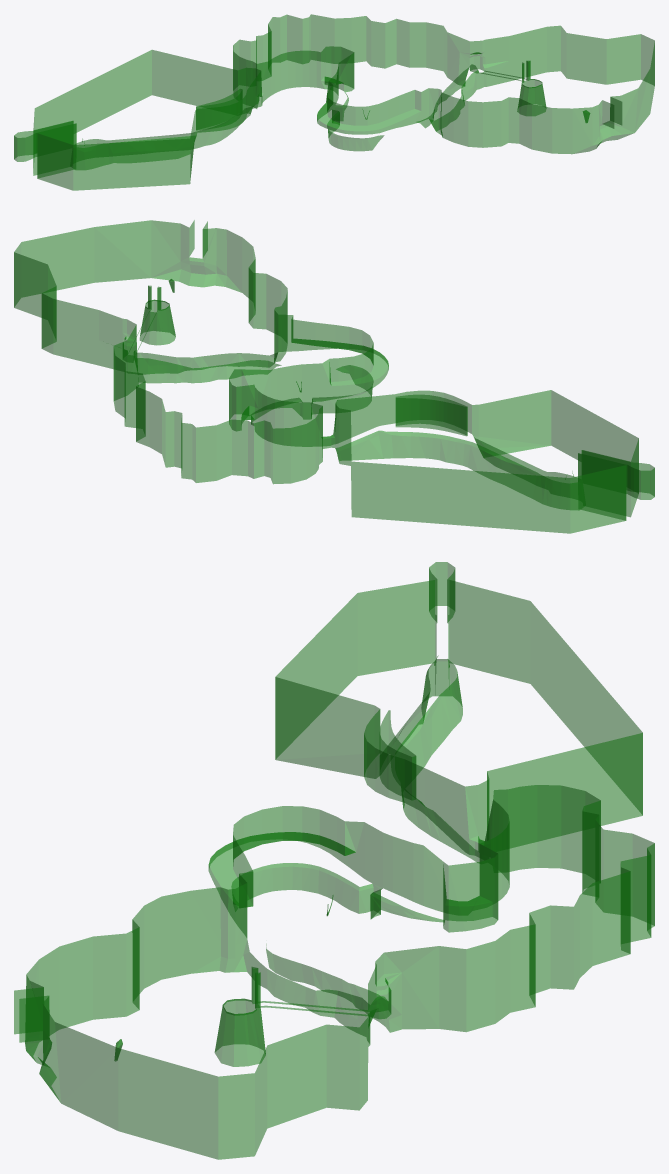
File: A_wall.obj
3 renders of one model, top to bottom at view 1: azimuth 30°, elevation 25°; view 2: azimuth 150°, elevation 25°; view 3: azimuth 270°, elevation 25°, orthographic. The views are drawn at different scales.
Bounding box in the file's own units: 1260 × 95.07 × 663.
